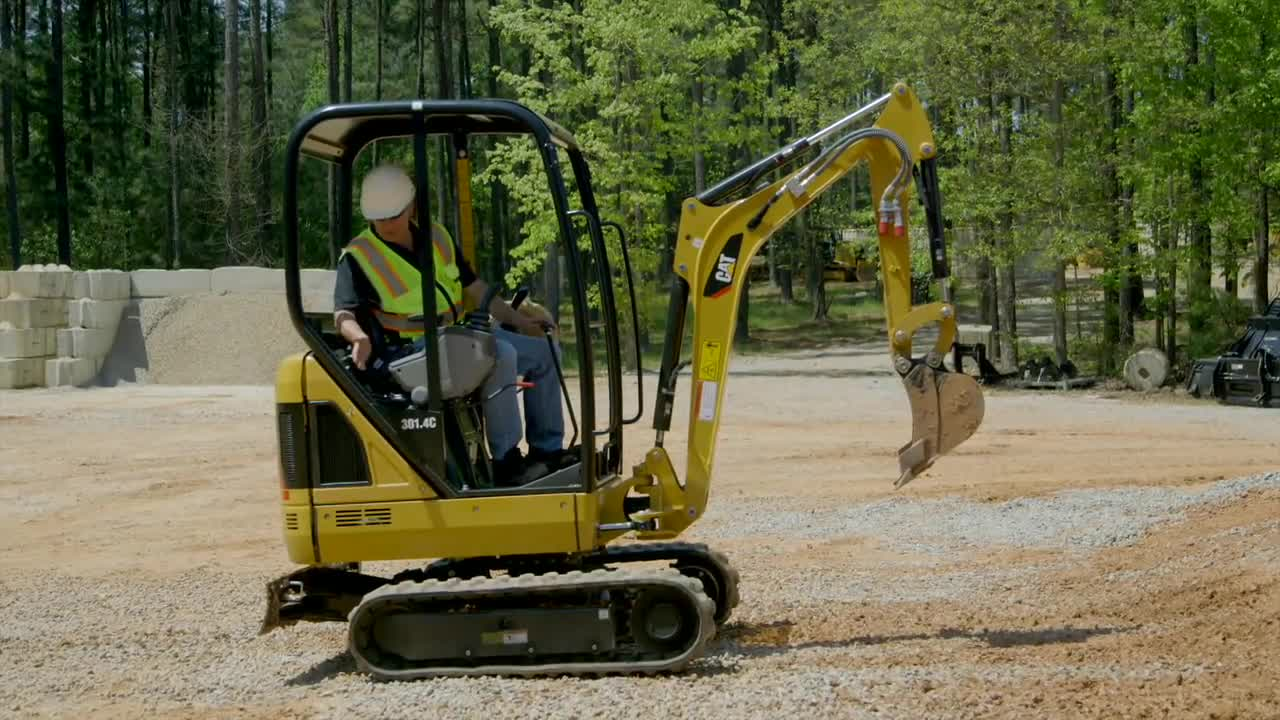attachment-bucket: (890, 354, 985, 493)
cabin: (280, 98, 654, 567)
forearm: (858, 86, 949, 351)
upperarm: (641, 139, 872, 539)
wheelbase: (343, 541, 758, 692)
